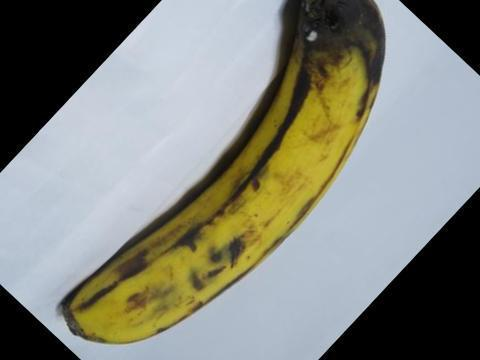overripe: (57, 0, 398, 349)
rotten: (261, 0, 401, 96)
